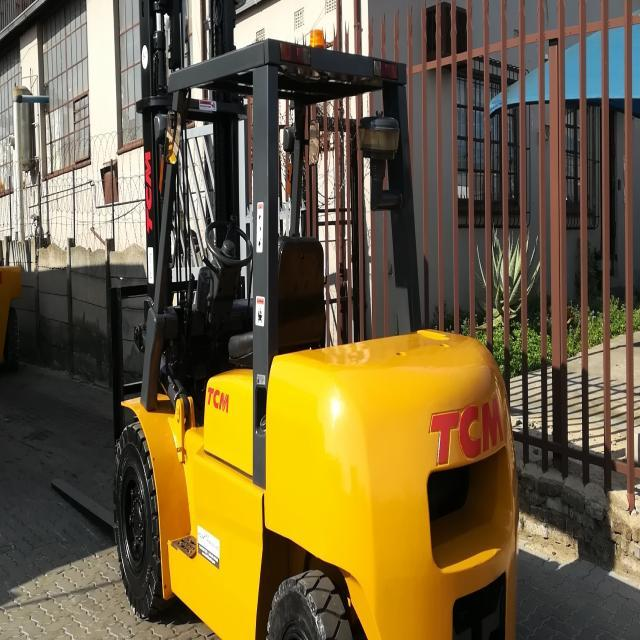forklift: (98, 6, 530, 638)
